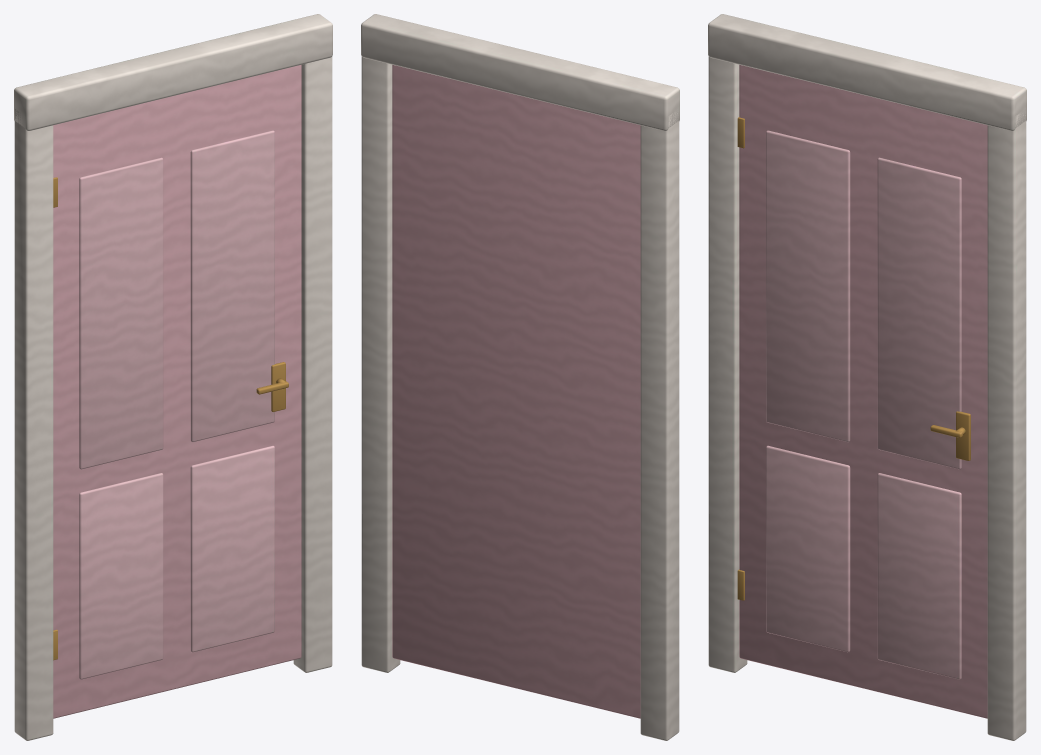
Rendered from scene-door-set.glb.
3 views of the same model, side by side, from view 1: azimuth 30°, elevation 25°; view 2: azimuth 150°, elevation 25°; view 3: azimuth 330°, elevation 25° (orthographic).
Visible parts, largest first — view 1: scene-door-set; view 2: scene-door-set; view 3: scene-door-set.
Boxes of the visible parts, bbox=[...] form: scene-door-set: bbox=[14, 14, 332, 740]; scene-door-set: bbox=[361, 14, 679, 740]; scene-door-set: bbox=[708, 14, 1026, 740].
Size of the model in its own units: 1.1 by 2.21 by 0.116.
1 material, 1 textured.
